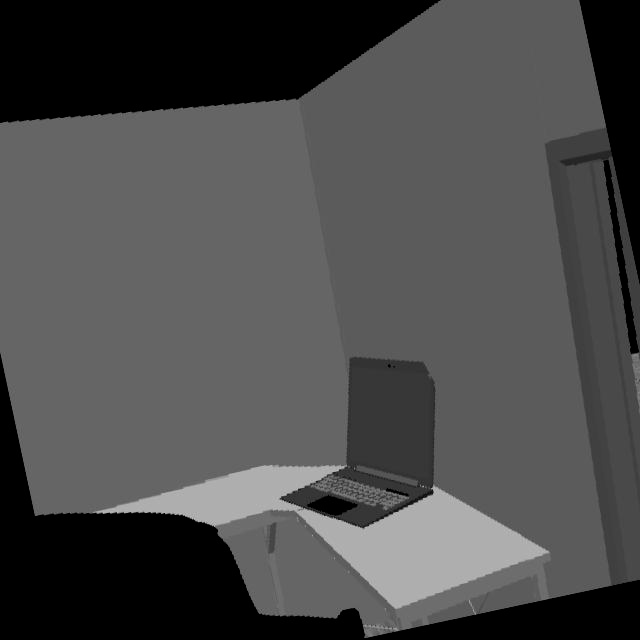chair: (35, 512, 357, 640)
laptop: (283, 359, 438, 534)
table: (98, 465, 530, 628)
